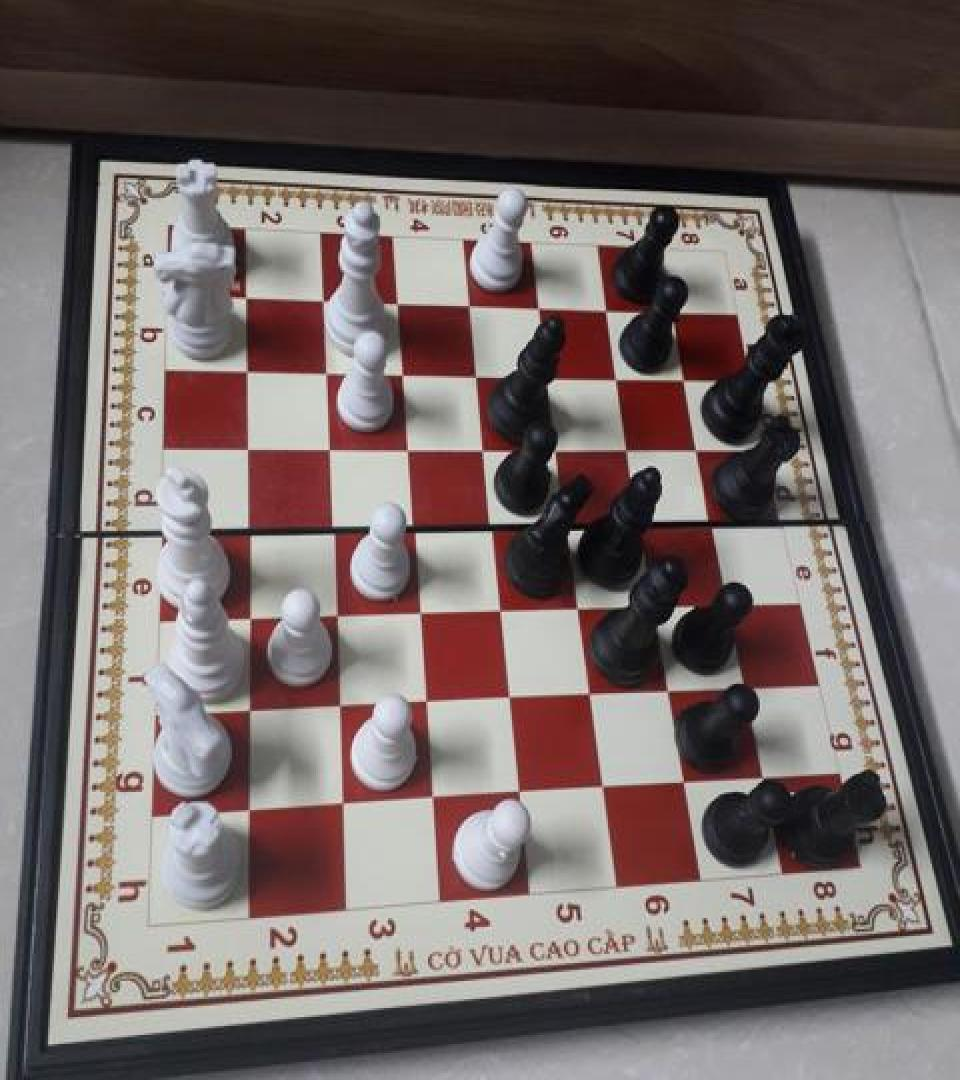xcorner: (591, 290, 621, 324), (523, 289, 553, 323), (453, 287, 483, 321), (382, 286, 412, 320), (232, 281, 262, 315), (671, 359, 701, 393), (603, 358, 633, 392), (532, 356, 562, 390), (387, 354, 417, 388), (311, 353, 341, 387), (233, 353, 263, 387), (684, 428, 714, 462), (614, 428, 644, 462), (542, 428, 572, 462), (468, 428, 498, 462), (392, 428, 422, 462), (314, 428, 344, 462), (233, 428, 263, 462), (699, 503, 729, 537), (627, 504, 657, 538), (553, 505, 583, 539), (476, 506, 506, 540), (398, 507, 428, 541), (317, 508, 347, 542), (233, 510, 263, 544), (715, 582, 745, 616), (640, 585, 670, 619), (564, 587, 594, 621), (485, 590, 515, 624), (320, 595, 350, 629), (233, 597, 263, 631), (731, 667, 761, 701), (575, 675, 605, 709), (494, 678, 524, 712), (410, 683, 440, 717), (323, 687, 353, 721), (234, 690, 264, 724), (749, 758, 779, 792), (670, 764, 700, 798), (588, 770, 618, 804), (504, 774, 534, 808), (417, 780, 447, 814), (327, 786, 357, 820), (234, 792, 264, 826), (658, 293, 688, 326), (308, 284, 338, 317), (461, 356, 491, 389), (404, 592, 434, 625), (654, 672, 684, 705)
